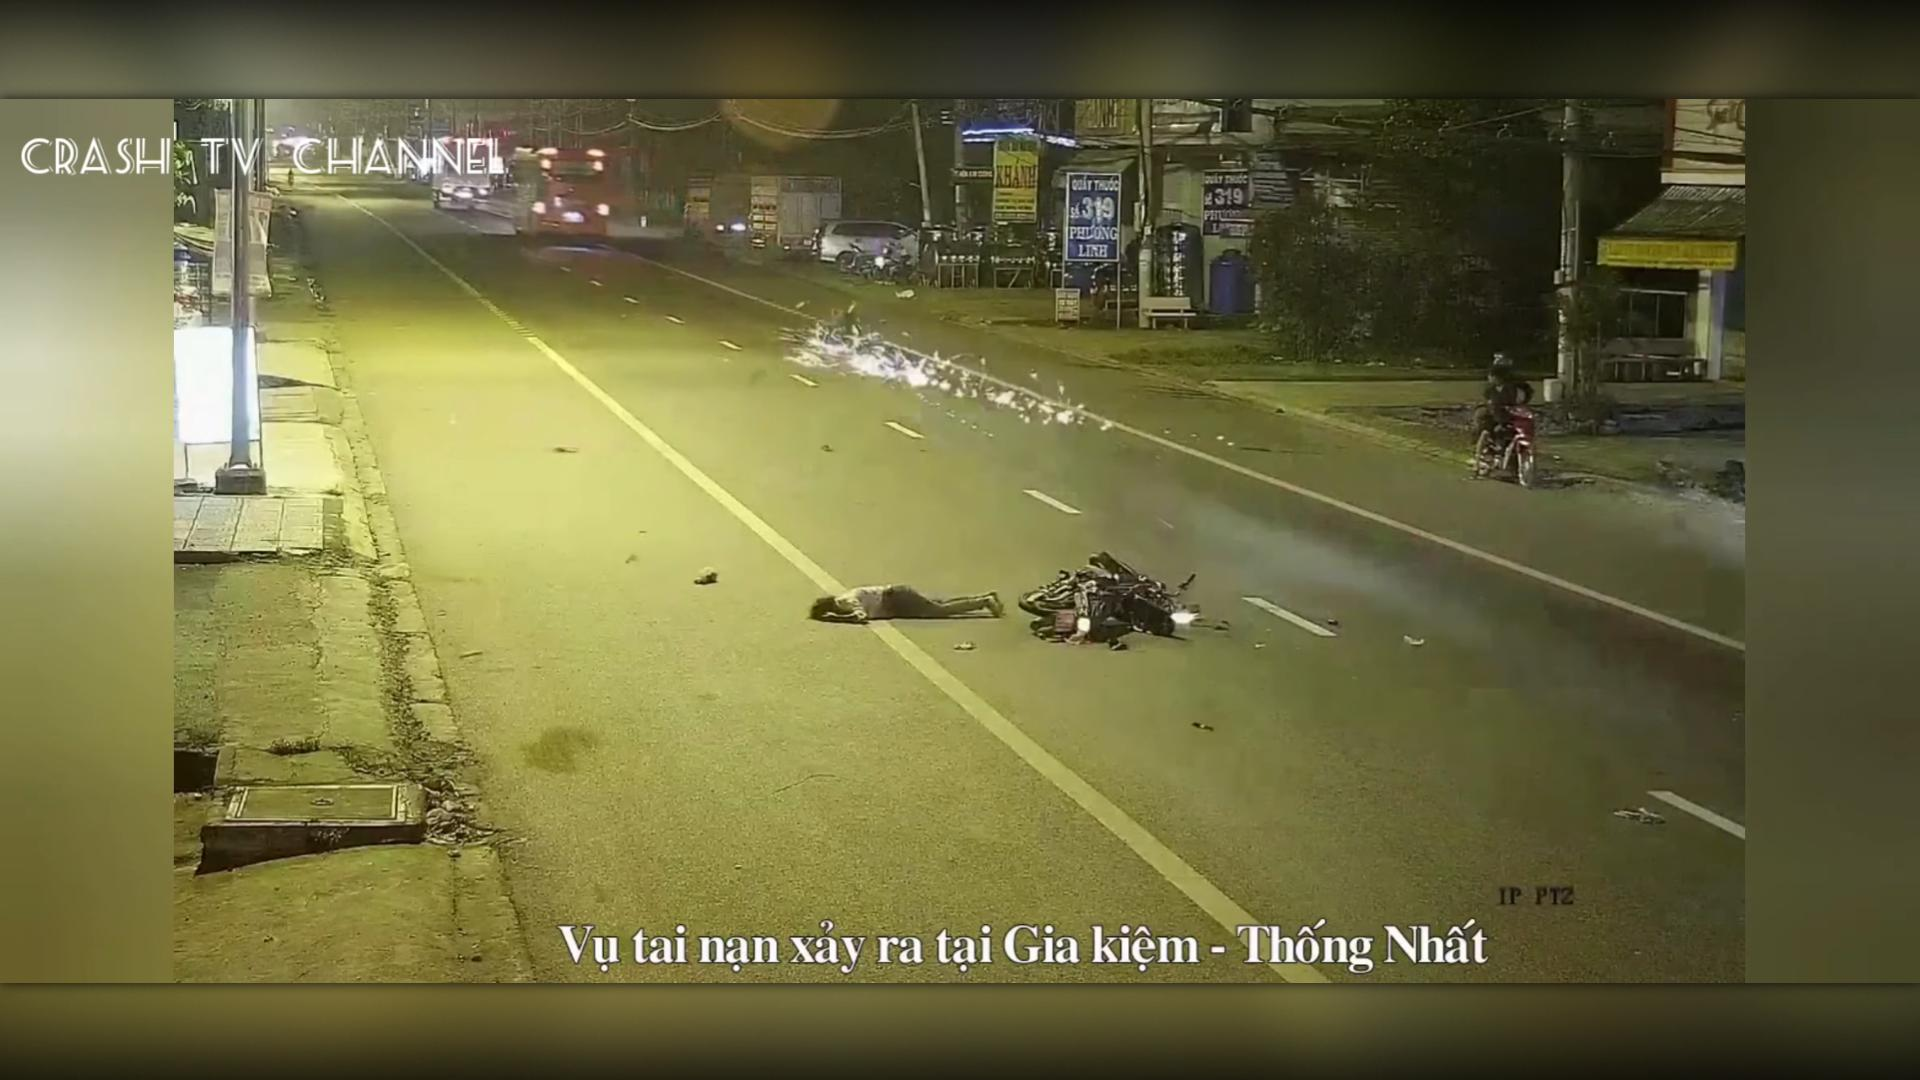accident: (783, 545, 1226, 670), (1015, 542, 1197, 673), (774, 289, 977, 401), (800, 299, 898, 389)
